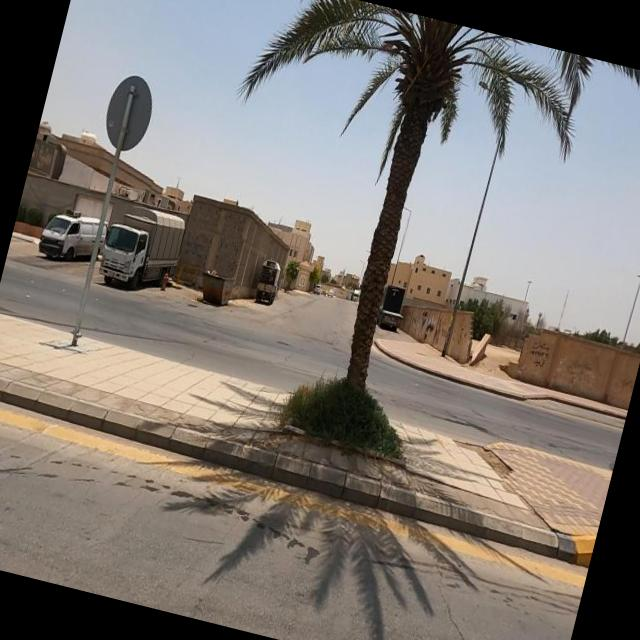debris: (494, 308, 570, 392), (392, 289, 466, 366)
